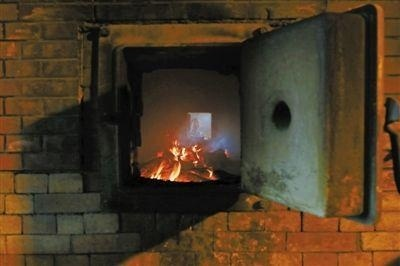fire: (141, 137, 215, 183)
